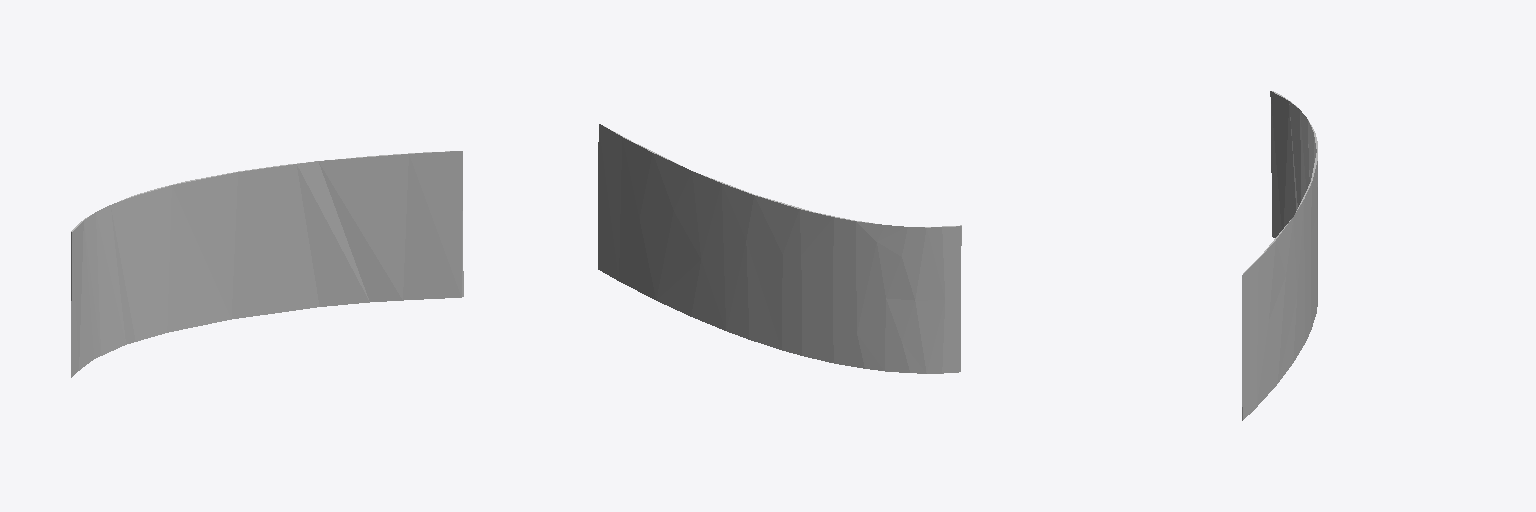
Rendered from shield.obj.
3 renders of one model, left to right at view 1: azimuth 30°, elevation 25°; view 2: azimuth 150°, elevation 25°; view 3: azimuth 270°, elevation 25°, orthographic.
Bounding box in the file's own units: 0.5944 × 0.22 × 0.1044.